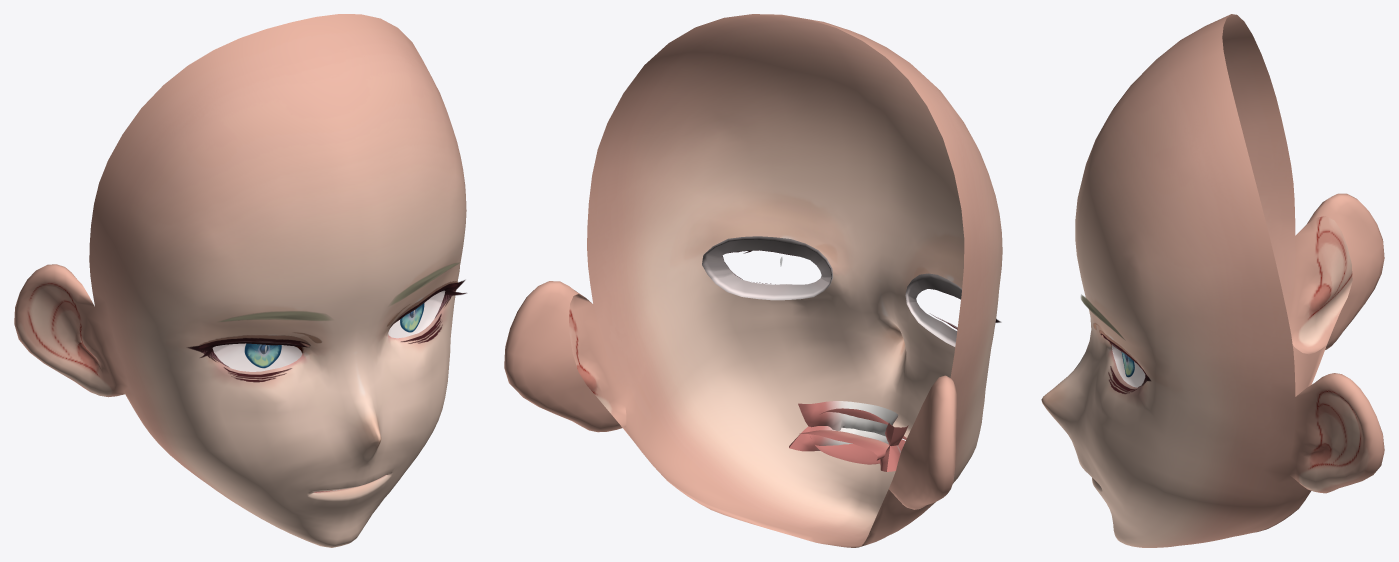
3 views of the same model, side by side, from view 1: azimuth 30°, elevation 25°; view 2: azimuth 150°, elevation 25°; view 3: azimuth 270°, elevation 25° (orthographic). The views are drawn at different scales.
Visible parts, largest first — view 1: part; view 2: part; view 3: part.
Boxes of the visible parts, x1=… form: part: x1=14, y1=14, x2=466, y2=547; part: x1=504, y1=14, x2=1002, y2=547; part: x1=1041, y1=14, x2=1384, y2=547.
Bounding box in the file's own units: 0.1887 × 0.2179 × 0.1345.
8 materials, 8 textured.
